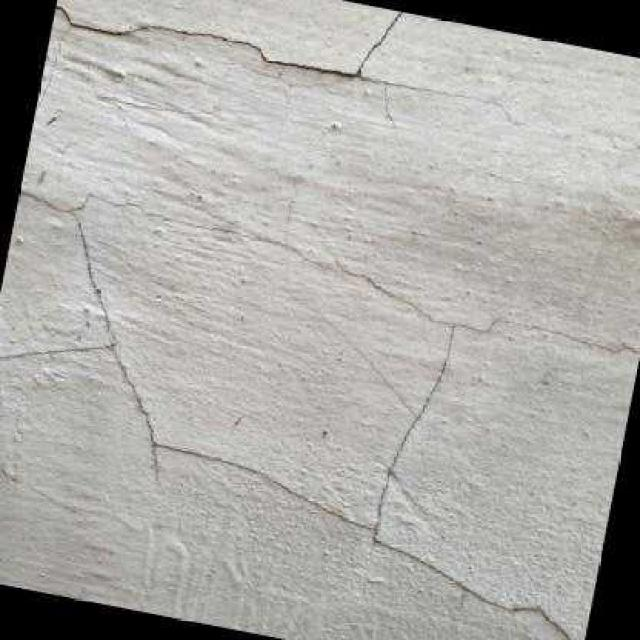D00: (178, 442, 585, 640), (0, 183, 168, 456), (55, 0, 412, 77)
